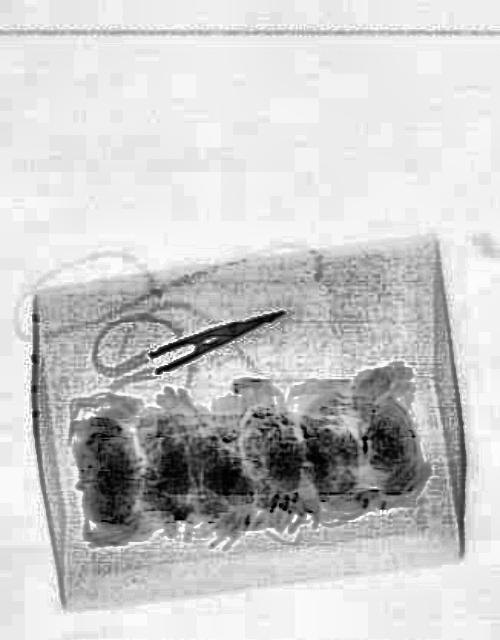Knife: (145, 298, 286, 374)
